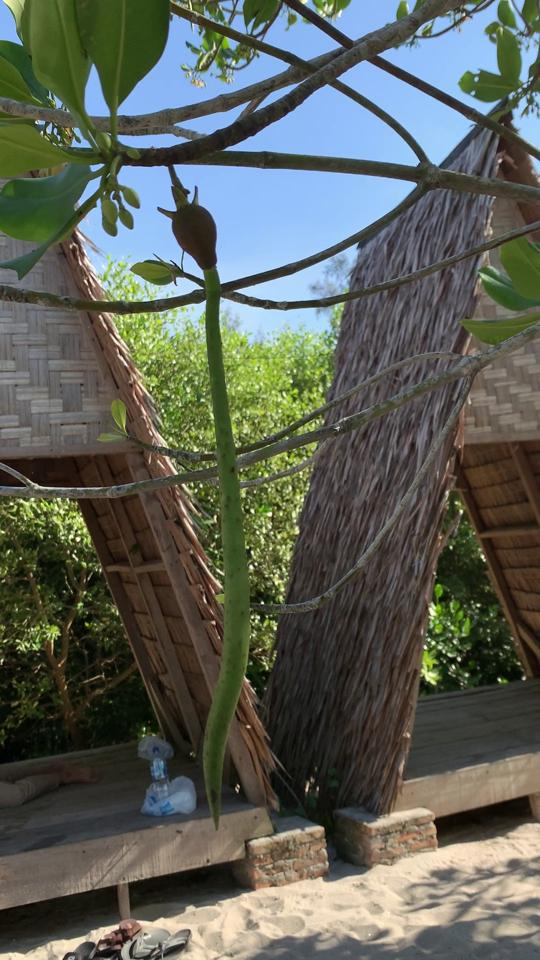setengah matang: (153, 182, 263, 832)
